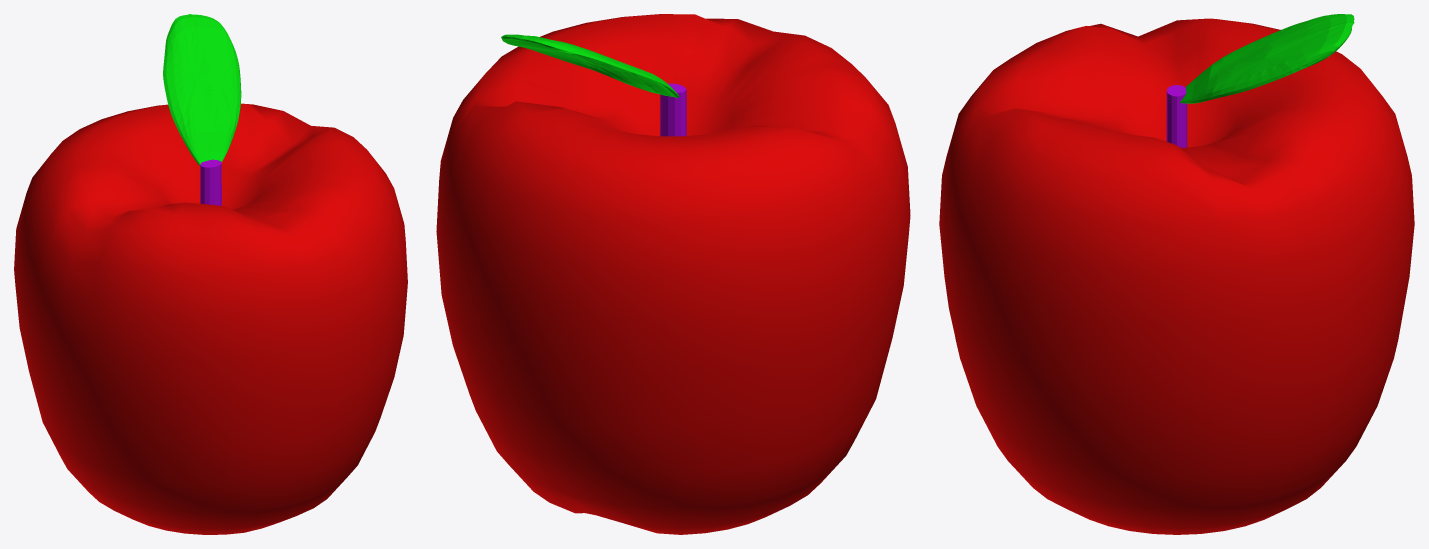
File: 2N_Poma.fbx
3 views of the same model, side by side, from view 1: azimuth 30°, elevation 25°; view 2: azimuth 150°, elevation 25°; view 3: azimuth 270°, elevation 25° (orthographic). The views are drawn at different scales.
Visible parts, largest first — view 1: Poma; view 2: Poma; view 3: Poma.
Part boxes in pixels (bbox=[...]): Poma: bbox=[14, 14, 407, 534]; Poma: bbox=[436, 14, 910, 534]; Poma: bbox=[939, 14, 1414, 534].
Size of the model in its own units: 11.41 by 13.43 by 11.5.
